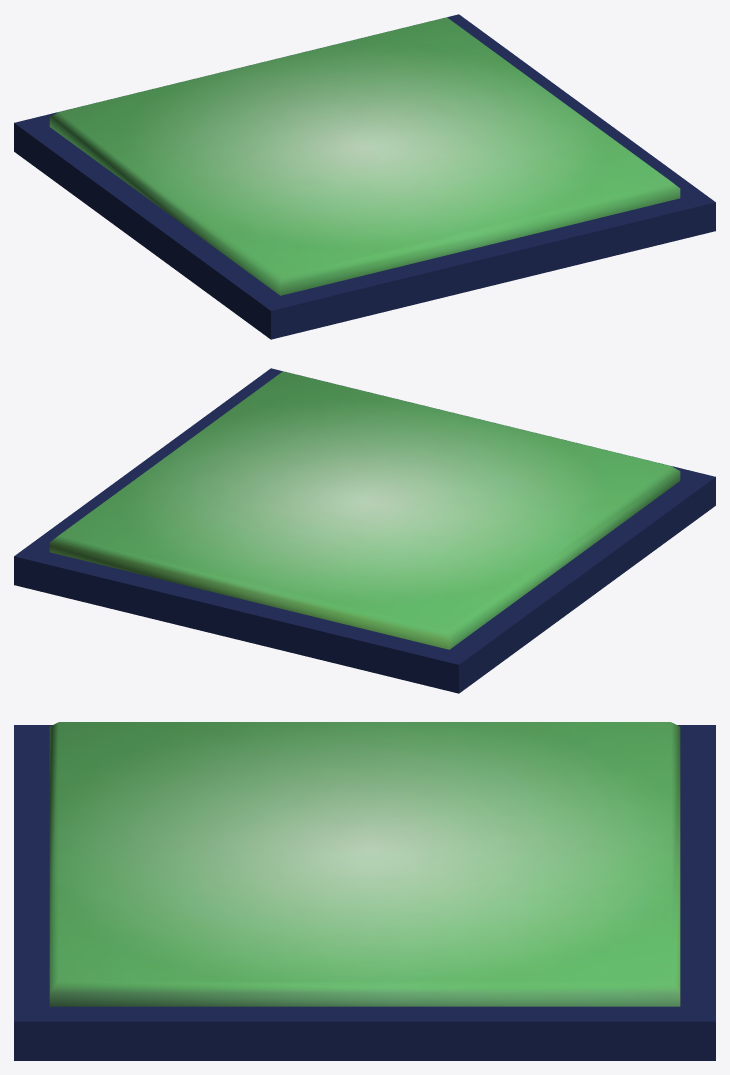
The model's file is tileGreen.glb.
The picture shows the model from 3 angles, top to bottom: view 1: azimuth 30°, elevation 25°; view 2: azimuth 150°, elevation 25°; view 3: azimuth 270°, elevation 25°; orthographic projection. The views are drawn at different scales.
Visible parts, largest first — view 1: TileGreen; view 2: TileGreen; view 3: TileGreen.
Boxes of the visible parts, x1,y1,x2,y2 form: TileGreen: (14,14,715,339); TileGreen: (14,368,715,693); TileGreen: (14,722,715,1060).
Size of what is drawn, in the model's own units: 2 by 0.192 by 2.
Materials: 1 (1 with a texture image).
